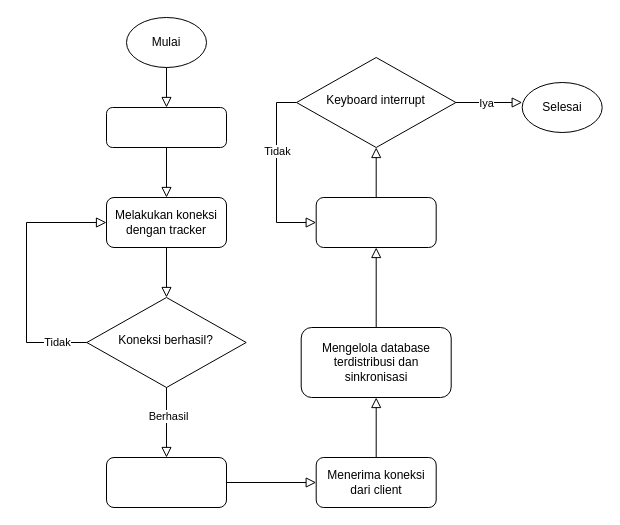
The diagram is 620 pixels wide and 525 high, and some of its shapes have lost their labels. The shapes that lost their labels are listed below. From the top down, each one's centre as x and y in pixels, then its label:
At (x=166, y=127): "Menjalankan Manajer".
At (x=375, y=222): "Menunggu dan menerima event sinkronisasi dari client".
At (x=166, y=482): "Menerima data client".
